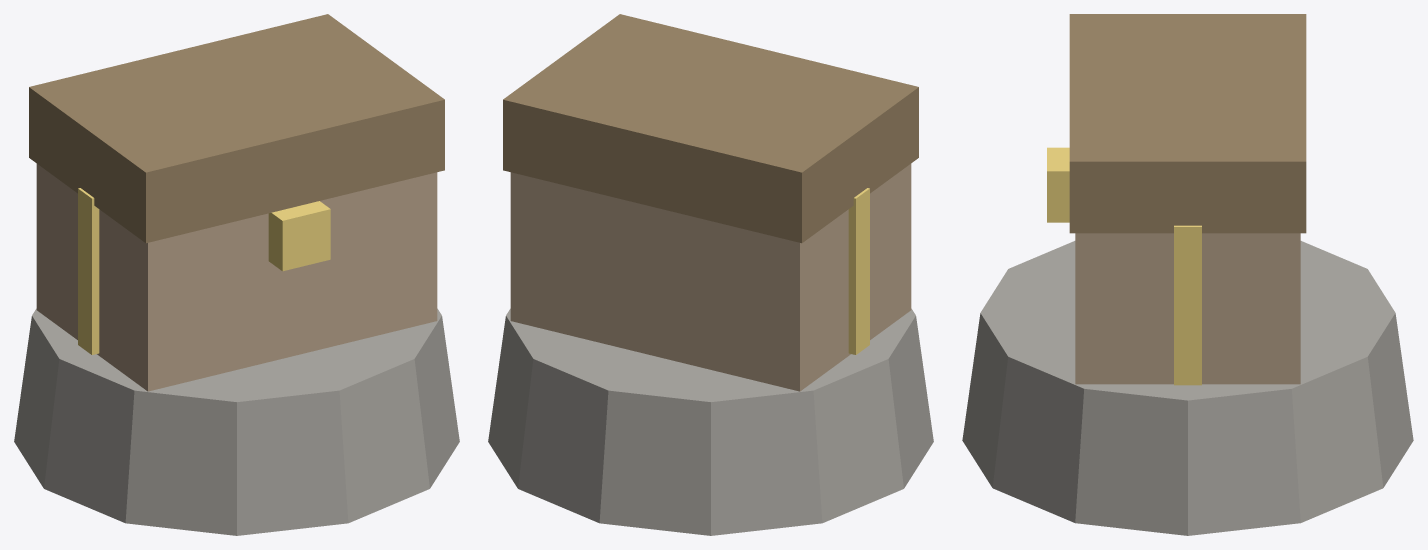
File: loot_cache.glb
3 renders of one model, left to right at view 1: azimuth 30°, elevation 25°; view 2: azimuth 150°, elevation 25°; view 3: azimuth 270°, elevation 25°, orthographic.
Parts seen in each view (by area): view 1: loot_cache; view 2: loot_cache; view 3: loot_cache.
Boxes of the visible parts, x1=… form: loot_cache: x1=14, y1=14, x2=459, y2=535; loot_cache: x1=488, y1=14, x2=933, y2=535; loot_cache: x1=962, y1=14, x2=1413, y2=535.
Size of the model in its own units: 1.6 by 1.38 by 1.6.
